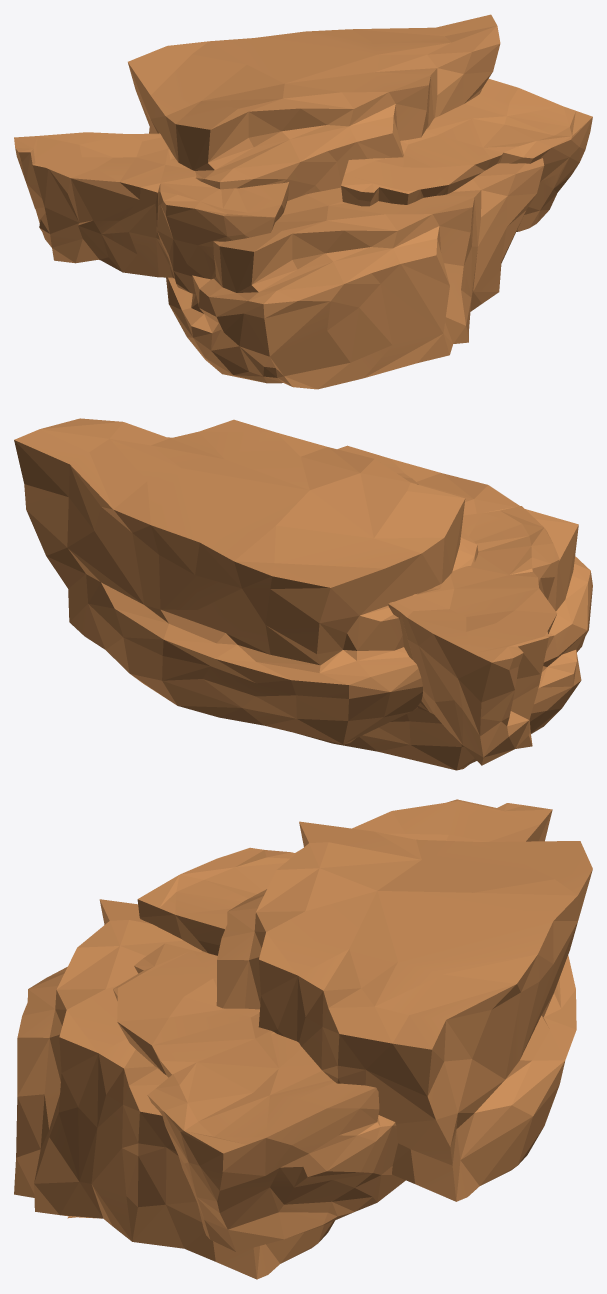
The model's file is enviornmentSet05.fbx.
3 renders of one model, top to bottom at view 1: azimuth 30°, elevation 25°; view 2: azimuth 150°, elevation 25°; view 3: azimuth 270°, elevation 25°, orthographic. The views are drawn at different scales.
Visible parts, largest first — view 1: rock0 (2), rock0 (1), rock1 (1), rock1 (2); view 2: rock0 (1), rock1 (1), rock0 (2); view 3: rock0 (1), rock1 (2), rock0 (2), rock1 (1).
Part boxes in pixels (x1,y1,x2,y2): rock0 (2): (166, 158, 544, 389); rock0 (1): (128, 14, 500, 200); rock1 (1): (14, 132, 289, 294); rock1 (2): (341, 79, 592, 231); rock0 (1): (14, 418, 478, 744); rock1 (1): (388, 506, 559, 765); rock0 (2): (298, 445, 592, 770); rock0 (1): (216, 821, 592, 1201); rock1 (2): (113, 943, 405, 1251); rock0 (2): (14, 899, 334, 1279); rock1 (1): (137, 799, 552, 955).
Bounding box in the file's own units: 3.59 × 1.62 × 2.59.
